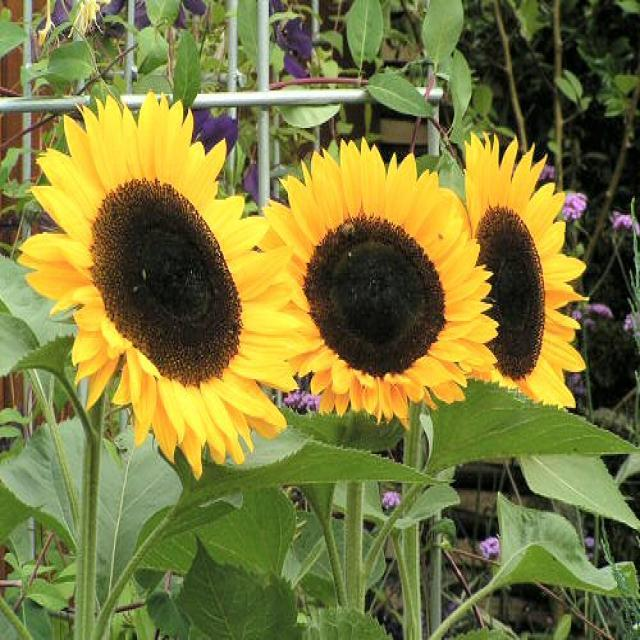sunflower: (17, 88, 300, 480), (260, 134, 498, 428), (464, 132, 587, 412)
